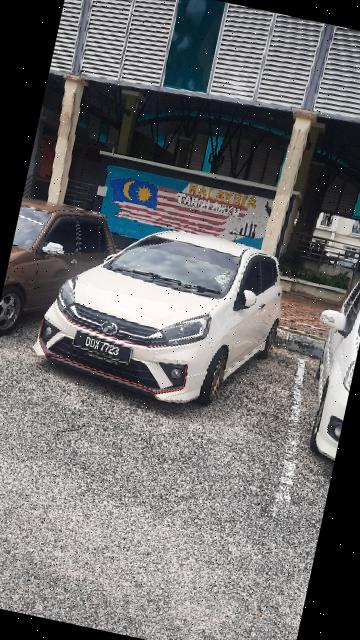License_Plate: (68, 328, 140, 370)
car: (20, 201, 300, 427)
